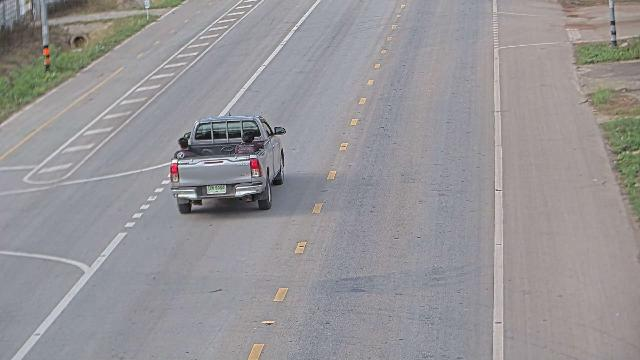pickup-truck: (169, 113, 286, 214)
